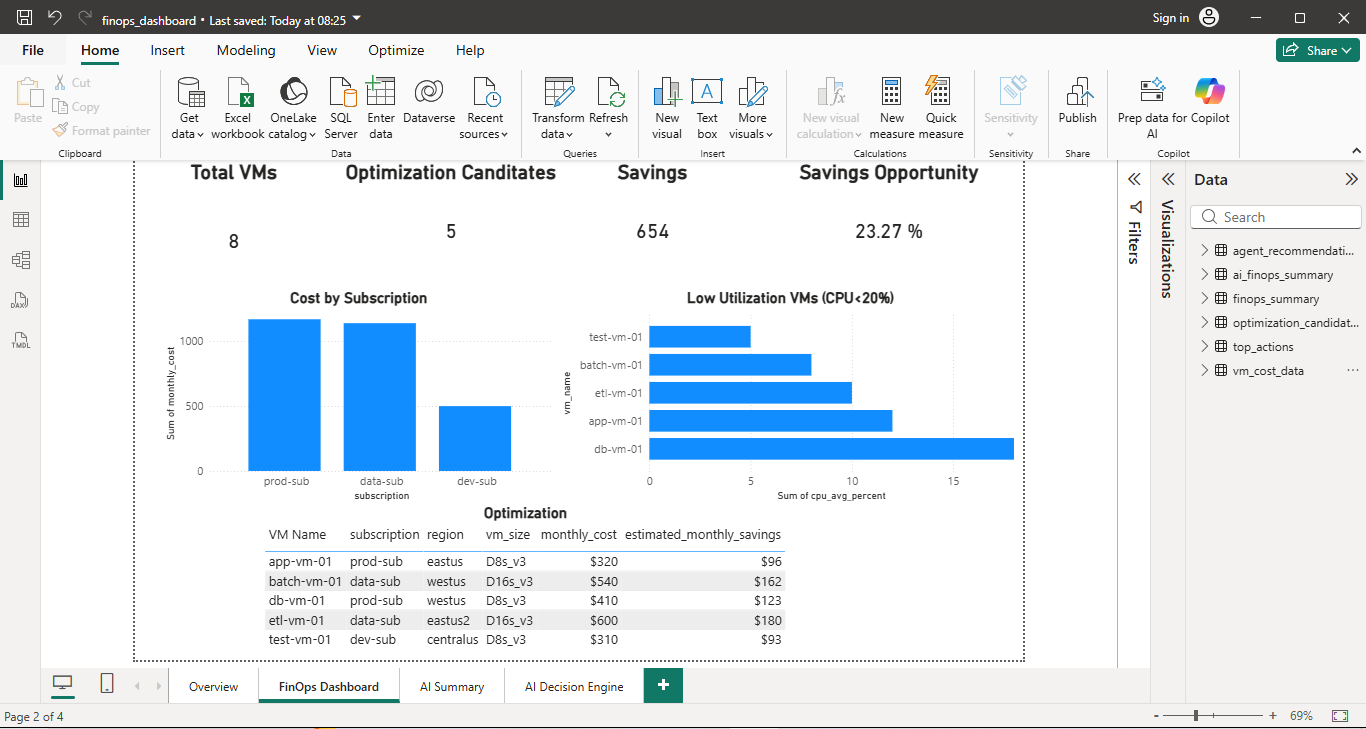

This screenshot's page, from the dashboard's own definition file:
{"tool":"powerbi","page":{"name":"FinOps Dashboard","canvas":[1280,720],"ordinal":1},"visuals":[{"type":"card","title":"Total VMs","fields":{"Values":["Max(finops_summary.total_vms)"]},"box":[0,0,285.1,197.3],"z":0},{"type":"card","title":"Optimization Canditates","fields":{"Values":["Sum(finops_summary.optimization_candidates)"]},"box":[239,0,432,167],"z":1000},{"type":"card","title":"Savings","fields":{"Values":["Sum(finops_summary.estimated_total_monthly_savings)"]},"box":[607.7,0,275,167],"z":2000},{"type":"clusteredColumnChart","title":"Cost by Subscription","fields":{"Category":["vm_cost_data.subscription"],"Y":["Sum(vm_cost_data.monthly_cost)"]},"box":[38.1,185.3,569.9,310],"z":3000},{"type":"clusteredBarChart","title":"Low Utilization VMs (CPU<20%)","fields":{"Category":["vm_cost_data.vm_name"],"Y":["Sum(vm_cost_data.cpu_avg_percent)"]},"box":[608,185.3,672,310],"z":4000},{"type":"tableEx","title":"Optimization","fields":{"Values":["optimization_candidates.vm_name","optimization_candidates.subscription","optimization_candidates.region","optimization_candidates.vm_size","optimization_candidates.monthly_cost","optimization_candidates.estimated_monthly_savings"]},"box":[181.9,495.4,762.1,225.2],"z":5000},{"type":"card","title":"Savings Opportunity","fields":{"Values":["finops_summary.Savings Opportunity %"]},"box":[891.4,0,388.8,167],"z":6000}]}

Visuals, with their boxes on the page's 1280x720 design canvas (x1, y1, x2, y2). These are canvas units, not pixel positions in the 1366x729 screenshot, which may show the page scaled, cropped or inside an application window:
"Total VMs" card: 0/0/285/197
"Optimization Canditates" card: 239/0/671/167
"Savings" card: 608/0/883/167
"Cost by Subscription" clusteredColumnChart: 38/185/608/495
"Low Utilization VMs (CPU<20%)" clusteredBarChart: 608/185/1280/495
"Optimization" tableEx: 182/495/944/721
"Savings Opportunity" card: 891/0/1280/167
